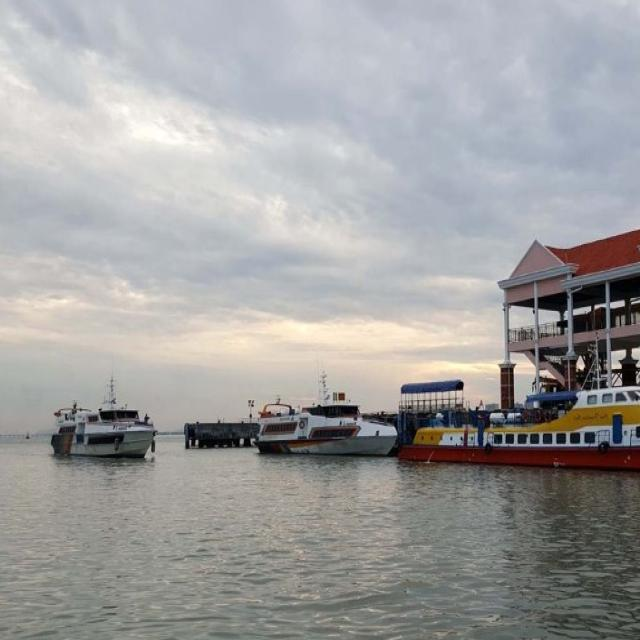houseboat: (256, 380, 389, 458), (60, 375, 151, 460)
